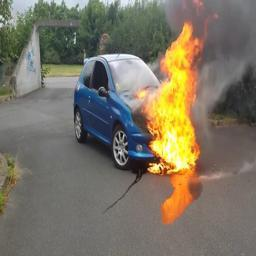fire: (138, 21, 204, 174)
